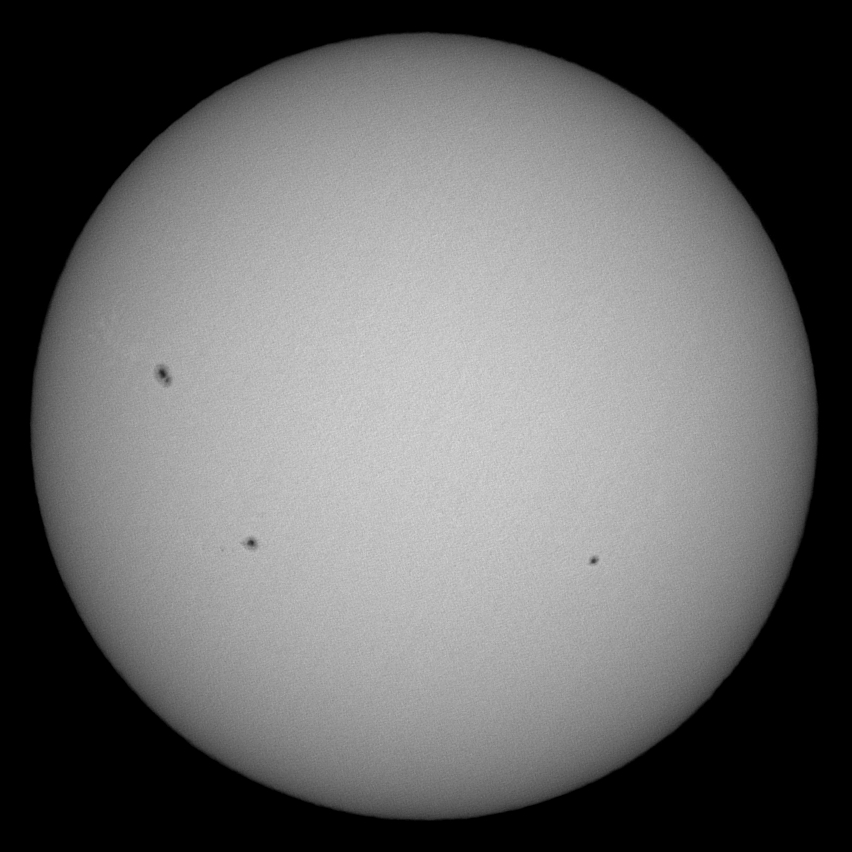sunspot: (149, 359, 176, 387), (237, 531, 263, 553), (584, 552, 603, 570)
